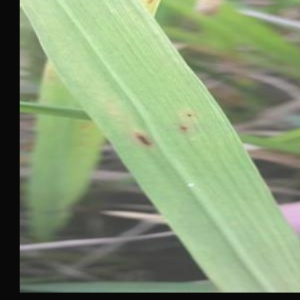Bacterial_Leaf_Blight: (128, 128, 159, 152), (173, 121, 193, 135), (184, 111, 196, 121)
